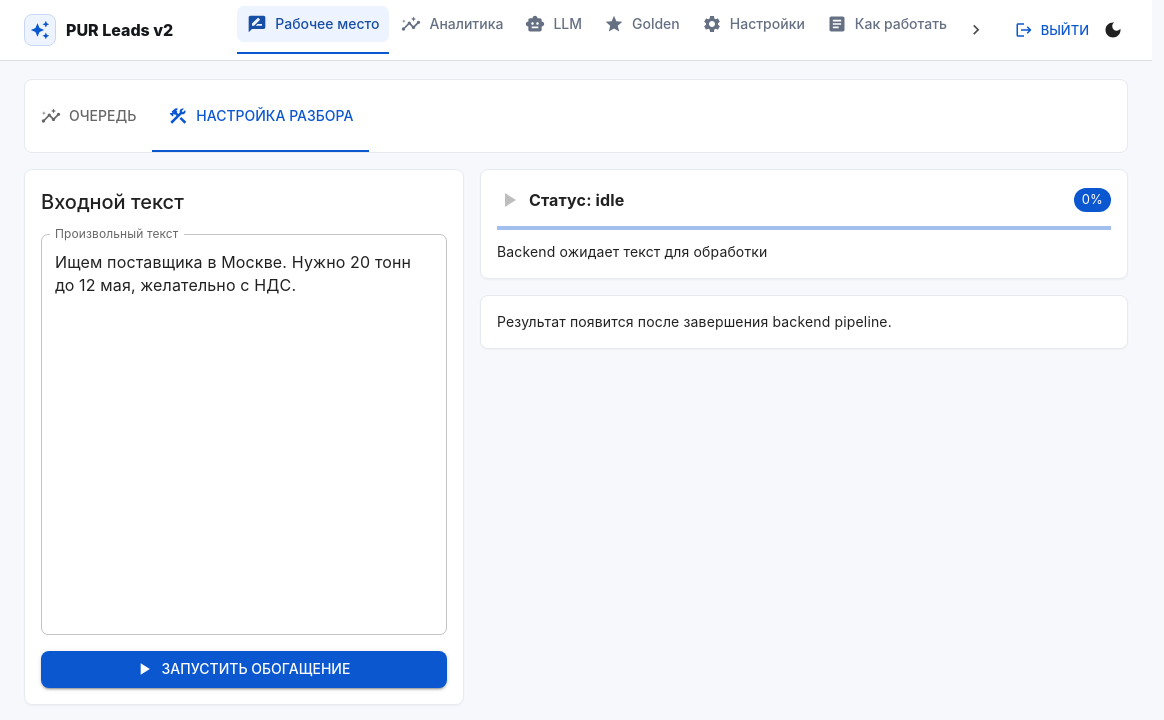
Test: opens settings sections from enrichment overview shortcuts
The width and height of the screenshot is (1164, 720).
Expected: the element named "Основная навигация" is shown, x1=237 y1=6 x2=956 y2=42
Expected: the text box labelled "Произвольный текст" is shown, x1=55 y1=250 x2=433 y2=618
Click the button "Запустить обогащение".
click(244, 669)  # box x1=41 y1=651 x2=447 y2=688
(page scrolled)
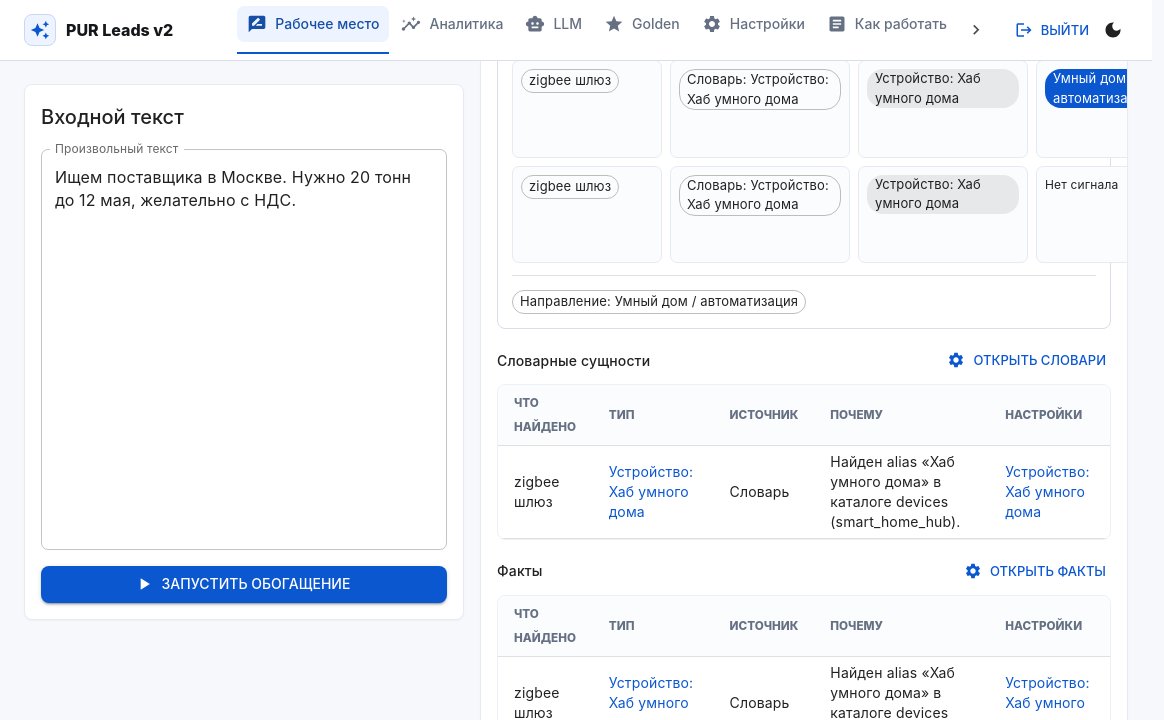
Click the button "Открыть словари".
click(1028, 360)  # box x1=944 y1=345 x2=1111 y2=376
(page scrolled)
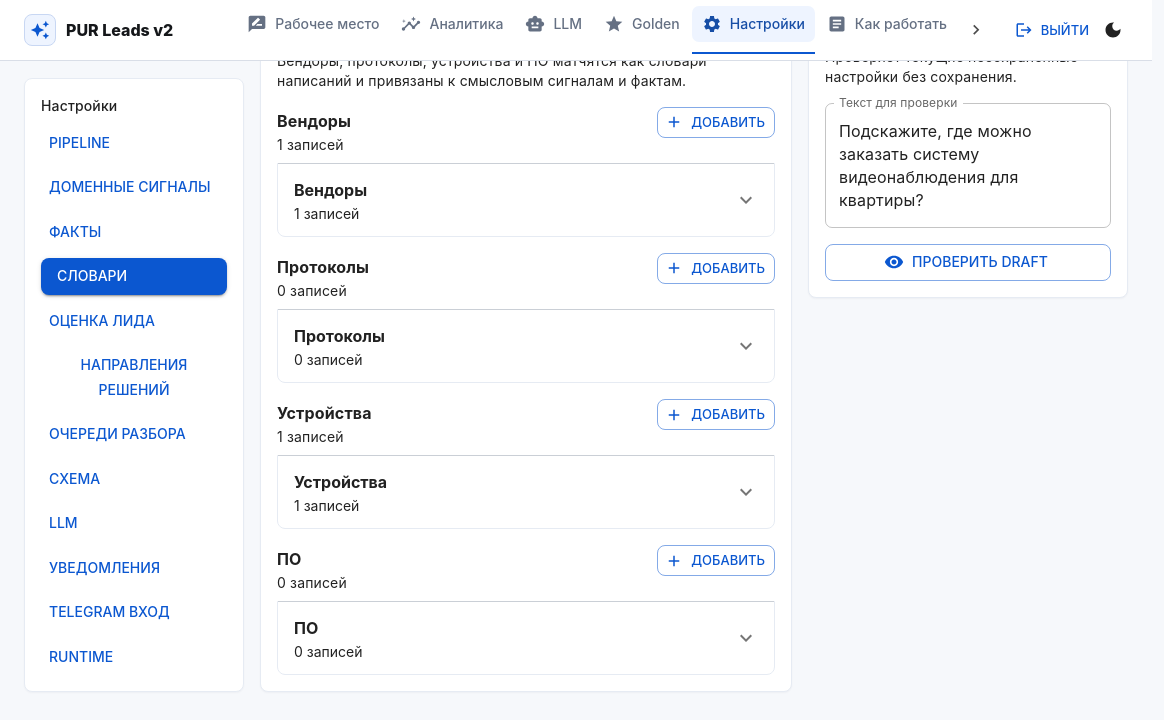
Expected: the heading "Alias-словари" is shown, x1=277 y1=23 x2=415 y2=47
